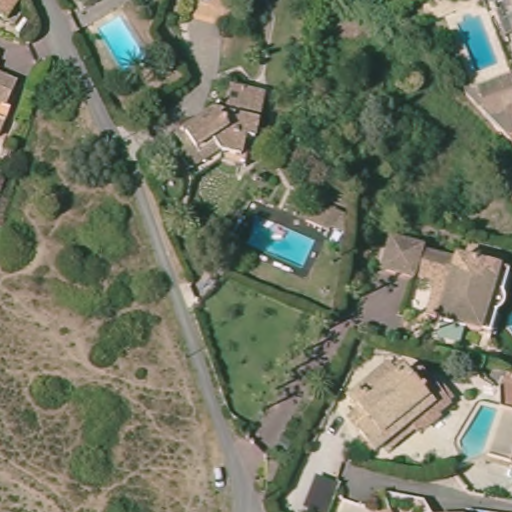pool: (238, 214, 316, 272), (448, 10, 507, 79), (90, 14, 149, 71), (457, 399, 500, 461)
